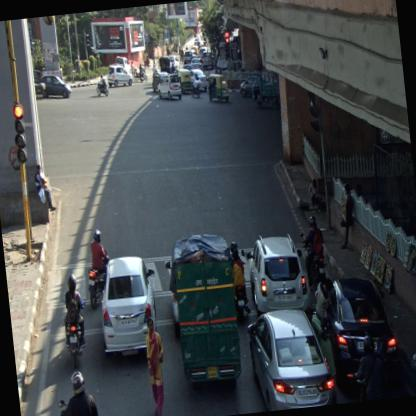car: (245, 304, 338, 412), (326, 274, 402, 392), (95, 252, 162, 358), (244, 230, 312, 314), (39, 73, 72, 101), (155, 72, 182, 103), (106, 63, 134, 89), (238, 74, 264, 98), (190, 66, 210, 92), (152, 71, 170, 92), (114, 54, 132, 74), (183, 49, 200, 66), (202, 51, 218, 69), (189, 56, 204, 71), (169, 54, 180, 70)
motorcycle: (58, 272, 92, 368), (80, 227, 115, 309), (298, 214, 328, 286), (228, 239, 250, 321), (409, 330, 415, 396), (94, 72, 109, 97), (190, 72, 202, 98), (136, 62, 148, 83)
truck: (162, 230, 245, 394), (249, 70, 280, 110)
